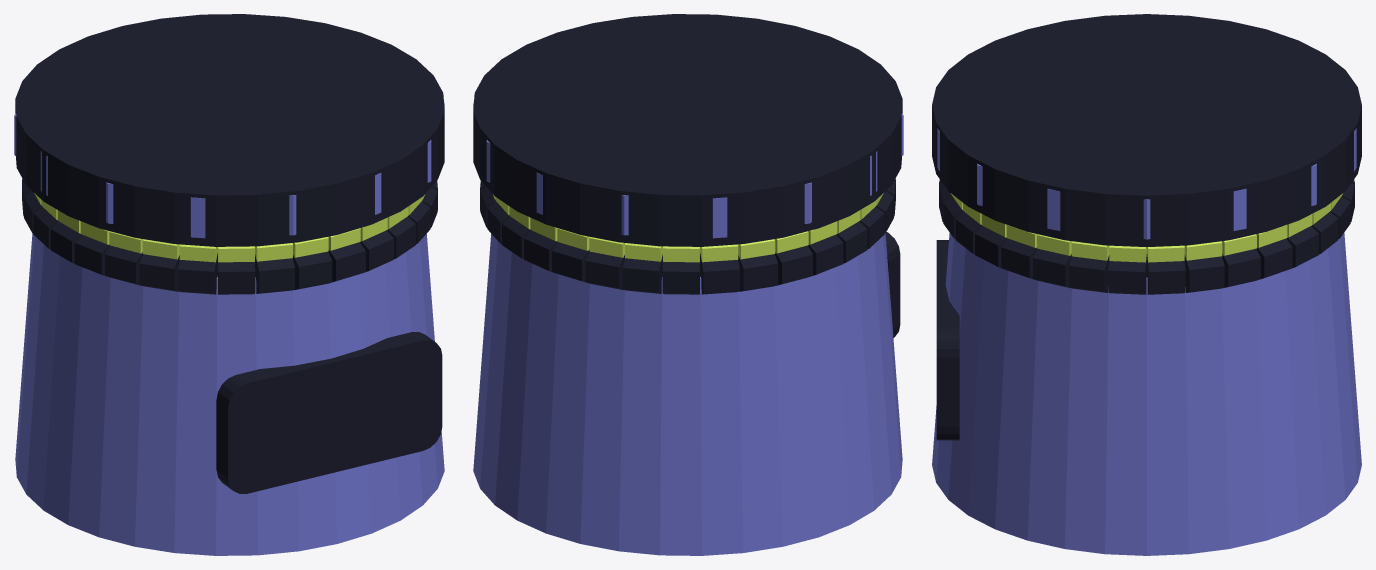
File: sealjar.glb
The picture shows the model from 3 angles, left to right: view 1: azimuth 30°, elevation 25°; view 2: azimuth 150°, elevation 25°; view 3: azimuth 270°, elevation 25°; orthographic projection.
Parts seen in each view (by area): view 1: jar base, lid, label, shoulder11, shoulder9, shoulder12, shoulder10, shoulder8, shoulder13, shoulder7, shoulder14, shoulder6 (+10 smaller); view 2: jar base, lid, shoulder20, shoulder22, shoulder19, shoulder21, shoulder23, shoulder18, label, shoulder24, shoulder17, shoulder25 (+10 smaller); view 3: jar base, lid, label, shoulder1, shoulder30, shoulder0, shoulder31, shoulder2, shoulder29, shoulder3, shoulder28, shoulder4 (+11 smaller).
Boxes of the visible parts, x1,y1,x2,y2 form: jar base: (15,233,444,555); lid: (15,14,444,246); label: (216,332,442,493); shoulder11: (178,254,217,294); shoulder9: (255,254,294,293); shoulder12: (139,254,179,291); shoulder10: (217,253,255,294); shoulder8: (292,251,332,289); shoulder13: (105,245,143,285); shoulder7: (328,242,365,283); shoulder14: (74,234,109,275); shoulder6: (360,230,393,271); jar base: (473,233,902,555); lid: (473,14,902,246); shoulder20: (700,254,739,294); shoulder22: (623,254,662,293); shoulder19: (738,254,778,291); shoulder21: (662,253,700,294); shoulder23: (585,251,625,289); shoulder18: (774,245,812,285); label: (885,232,900,337); shoulder24: (552,242,589,283); shoulder17: (808,234,843,275); shoulder25: (524,230,557,271); jar base: (932,233,1361,555); lid: (932,14,1361,246); label: (936,240,959,440); shoulder1: (1069,255,1109,292); shoulder30: (1184,255,1224,292); shoulder0: (1108,254,1146,294); shoulder31: (1147,254,1185,294); shoulder2: (1033,248,1071,288); shoulder29: (1222,248,1260,288); shoulder3: (1001,238,1037,278); shoulder28: (1256,238,1292,278); shoulder4: (975,226,1007,267).
Bounding box in the file's own units: 1.06 × 0.98 × 1.06.
